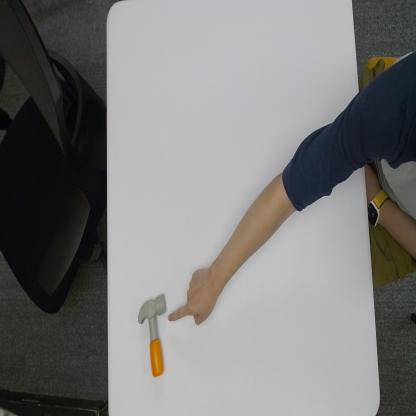Arm: (215, 137, 364, 300)
Hammer: (138, 292, 167, 379)
Hand: (167, 268, 214, 327)
